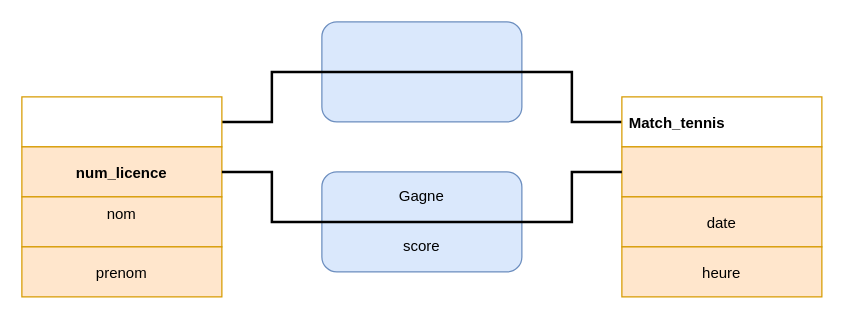
The diagram is 844 pixels wide and 319 high, and some of its shapes have lost their labels. The box of each missing label's shape, as (x1, y1, x2, y2) in pixels:
Joue: (321, 21, 522, 122)
Joueur: (21, 96, 222, 147)
num_match: (621, 146, 822, 197)
